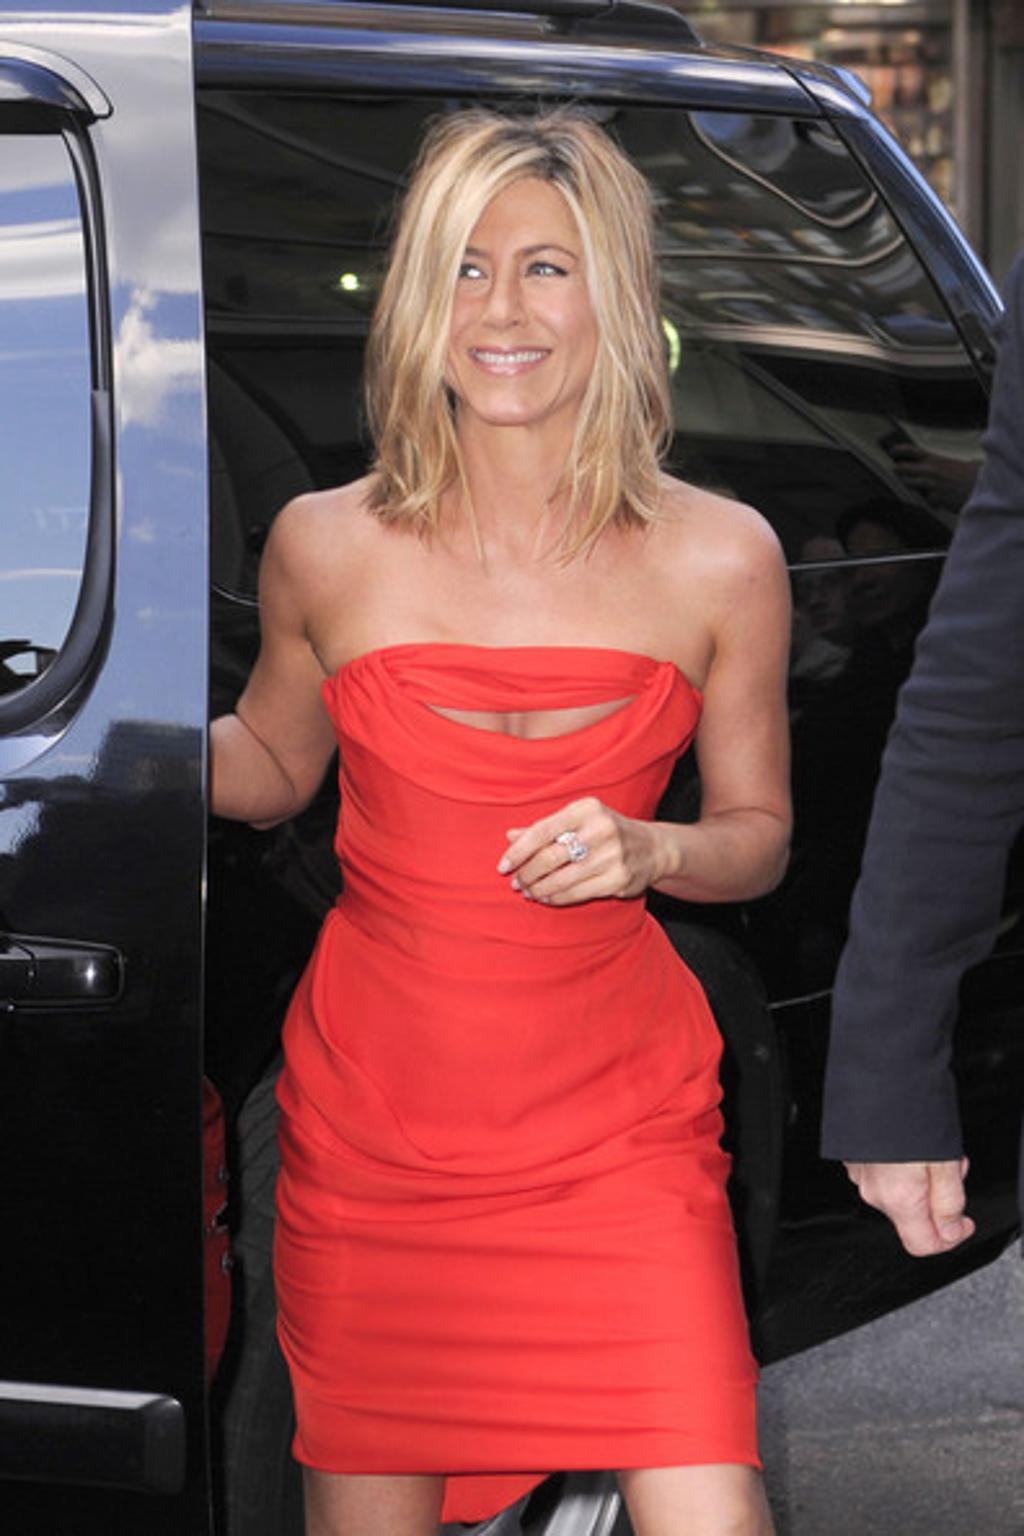face: (439, 175, 598, 421)
